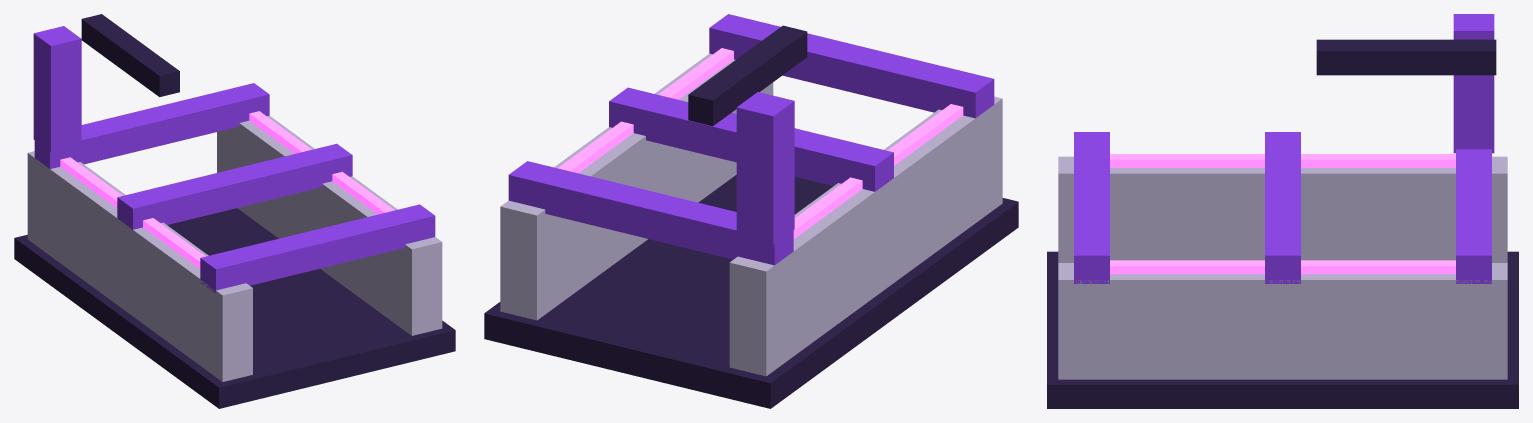
Rendered from rts.shipyard.glb.
The picture shows the model from 3 angles, left to right: view 1: azimuth 30°, elevation 25°; view 2: azimuth 150°, elevation 25°; view 3: azimuth 270°, elevation 25°; orthographic projection. The views are drawn at different scales.
Parts seen in each view (by area): view 1: rts.shipyard; view 2: rts.shipyard; view 3: rts.shipyard.
Part boxes in pixels (x1,y1,x2,y2): rts.shipyard: [14, 14, 455, 408]; rts.shipyard: [484, 14, 1018, 408]; rts.shipyard: [1047, 14, 1518, 408].
Bounding box in the file's own units: 1.4 × 1.32 × 2.1.
